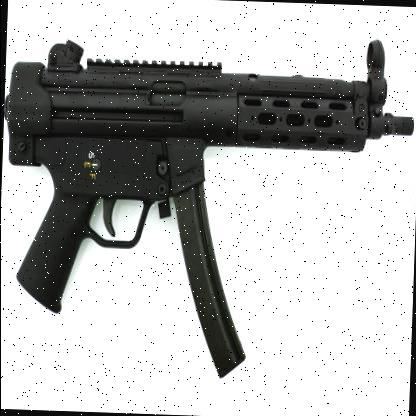rifle: (0, 6, 395, 380)
